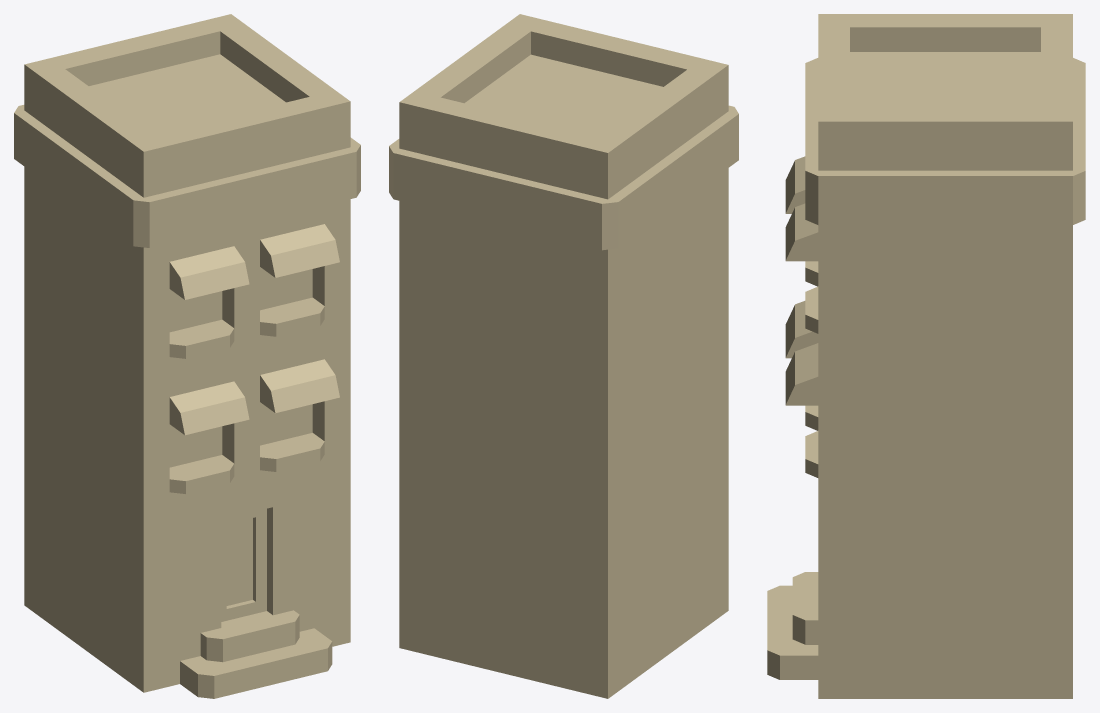
The model's file is building-sample-tower-a.obj.
3 renders of one model, left to right at view 1: azimuth 30°, elevation 25°; view 2: azimuth 150°, elevation 25°; view 3: azimuth 270°, elevation 25°, orthographic. The views are drawn at different scales.
Bounding box in the file's own units: 1.1 × 2.5 × 1.25.
